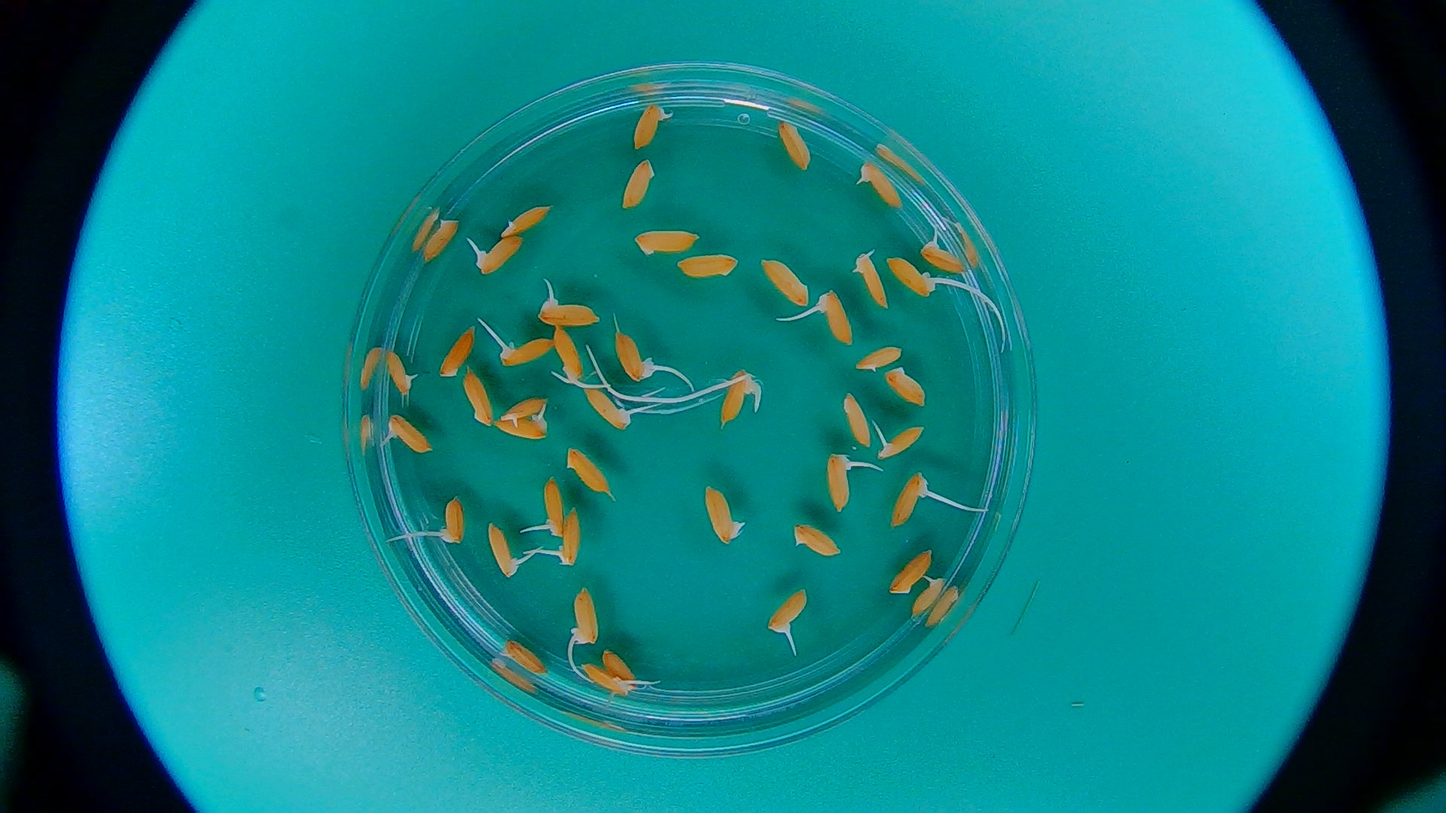no: (886, 364, 931, 414), (762, 258, 808, 306), (566, 446, 609, 496), (791, 524, 844, 559), (619, 159, 656, 209), (496, 637, 547, 673), (499, 204, 554, 237), (775, 120, 811, 170), (438, 326, 474, 376), (632, 228, 701, 254), (889, 548, 927, 592), (423, 218, 459, 264), (841, 391, 870, 448), (677, 253, 740, 279), (464, 372, 493, 427), (602, 650, 639, 684), (855, 347, 901, 374)
yes: (551, 324, 592, 390), (884, 254, 940, 297), (816, 287, 855, 346), (851, 248, 888, 308), (718, 370, 754, 431), (631, 99, 670, 155), (705, 482, 739, 546), (763, 588, 810, 634), (891, 473, 931, 525), (384, 410, 430, 454), (859, 163, 901, 211), (484, 522, 520, 577), (581, 660, 633, 698), (473, 237, 523, 274), (568, 586, 599, 645), (503, 336, 560, 368), (877, 423, 926, 460), (585, 389, 630, 429), (825, 449, 853, 513), (535, 297, 595, 326), (555, 508, 584, 567), (917, 243, 969, 274), (490, 416, 549, 443), (383, 348, 416, 394), (907, 574, 944, 615), (615, 335, 647, 382), (436, 492, 465, 543), (540, 473, 563, 536), (499, 394, 545, 420)
